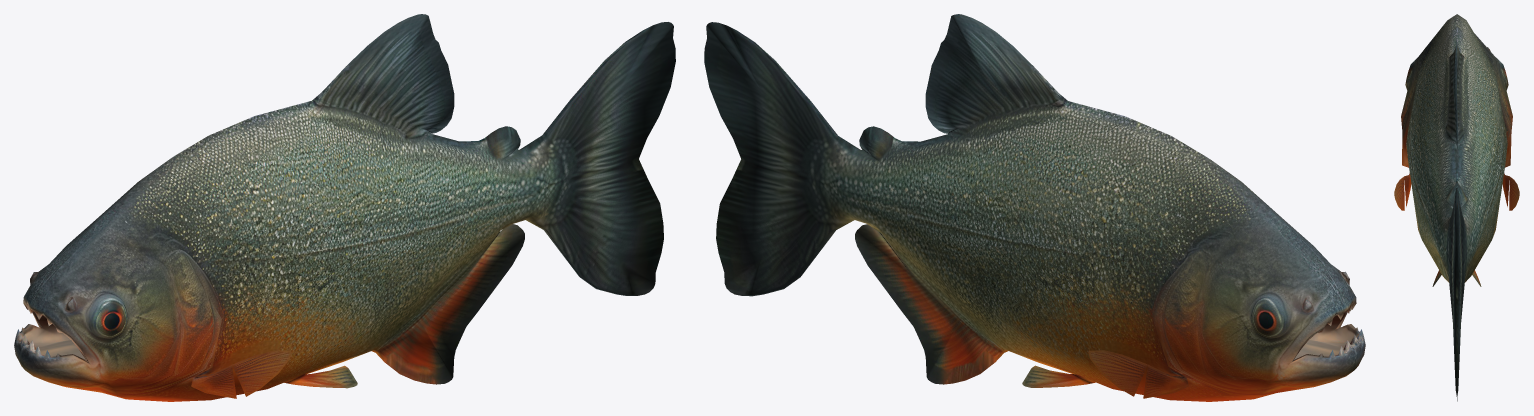
The model's file is piranha.glb.
The picture shows the model from 3 angles, left to right: view 1: azimuth 30°, elevation 25°; view 2: azimuth 150°, elevation 25°; view 3: azimuth 270°, elevation 25°; orthographic projection. The views are drawn at different scales.
Visible parts, largest first — view 1: tripo_node_8704de2a-20b7-4e35-b55c-61dd88702859; view 2: tripo_node_8704de2a-20b7-4e35-b55c-61dd88702859; view 3: tripo_node_8704de2a-20b7-4e35-b55c-61dd88702859.
Part boxes in pixels (<box>): tripo_node_8704de2a-20b7-4e35-b55c-61dd88702859: <box>14,14,675,401</box>; tripo_node_8704de2a-20b7-4e35-b55c-61dd88702859: <box>704,14,1365,401</box>; tripo_node_8704de2a-20b7-4e35-b55c-61dd88702859: <box>1394,14,1519,401</box>.
Bounding box in the file's own units: 0.9995 × 0.5493 × 0.2075.
1 material, 1 textured.
